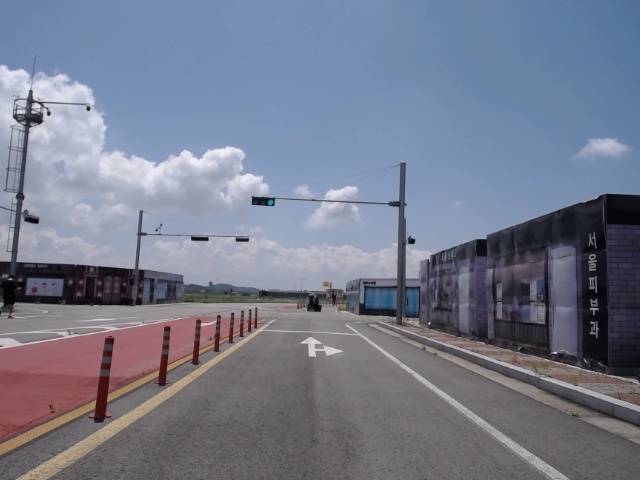green_3: (252, 198, 274, 206)
